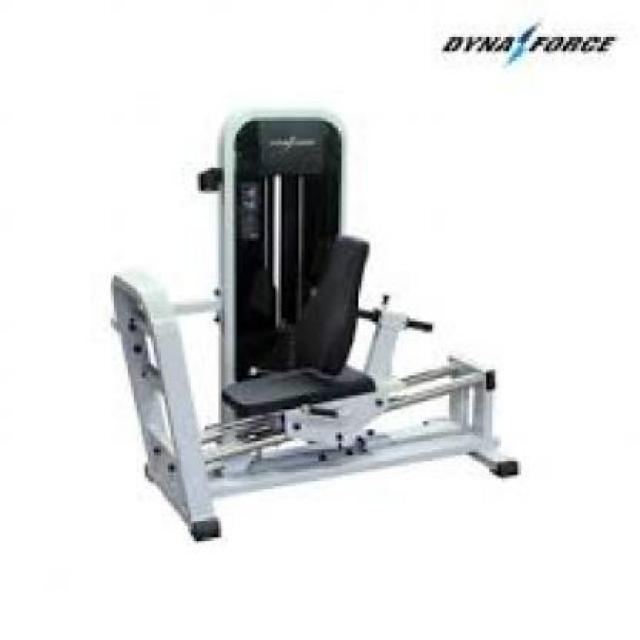leg press: (74, 101, 537, 532)
